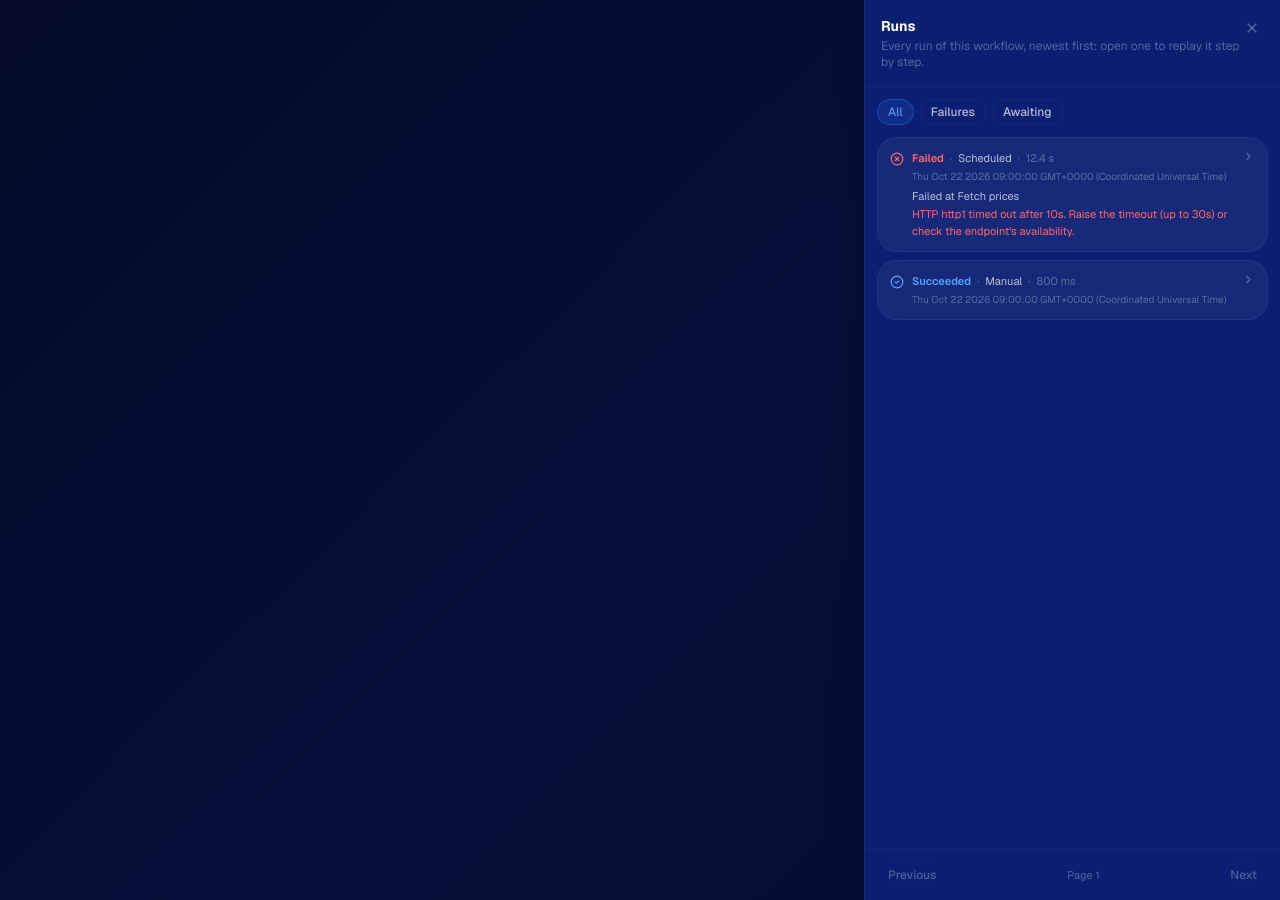
RunsDrawer › explains a run recorded before its steps were kept
The image size is (1280, 900).
Click the button with aria-label "Open run r2" at (928, 158), box top-left (877, 137), bottom-right (1268, 252)
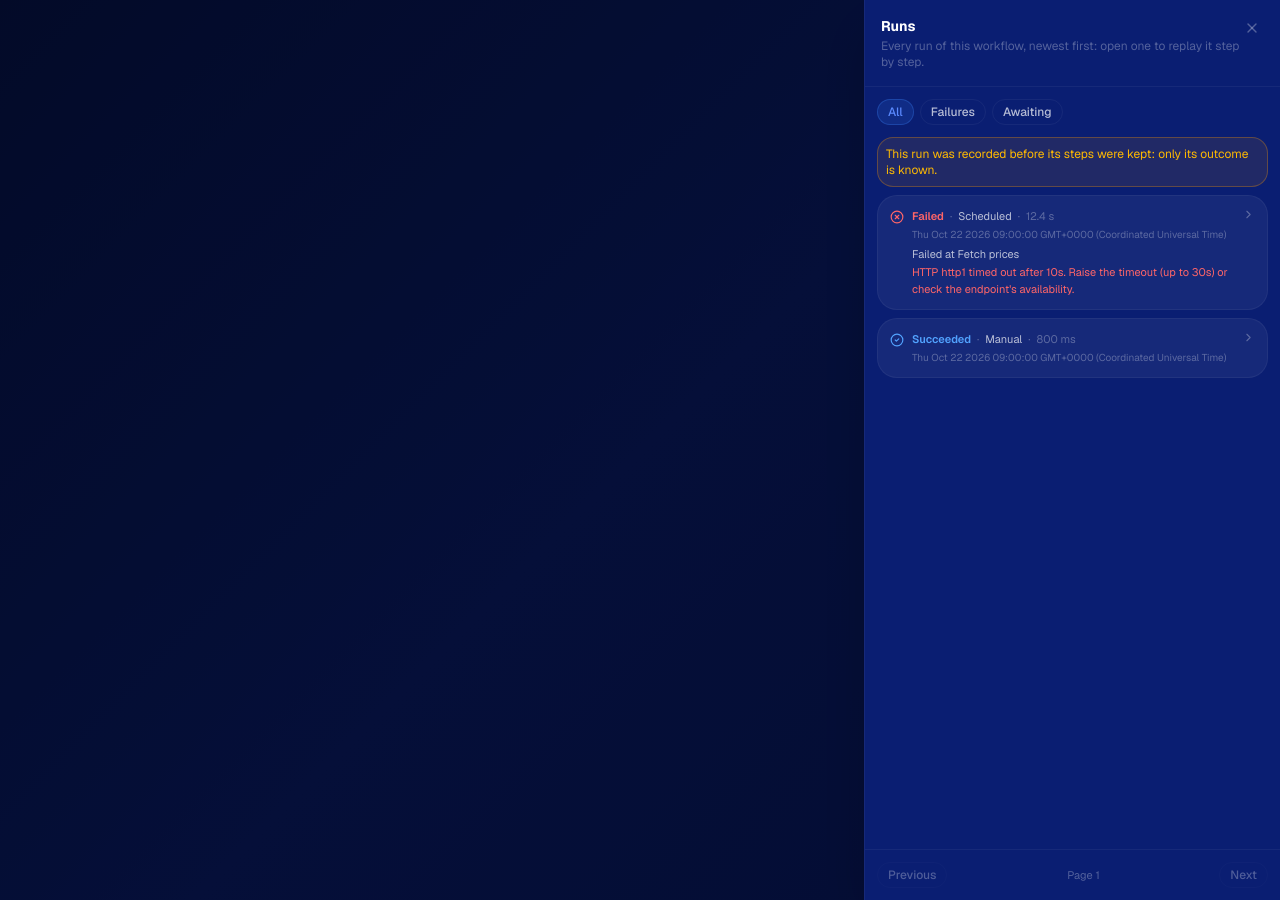
Check: the text "This run was recorded before its steps were kept: only its outcome is known." is shown, box top-left (877, 137), bottom-right (1268, 187)
